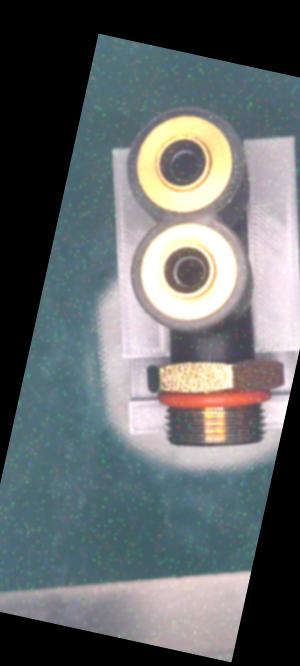white mark: (204, 350, 217, 365)
